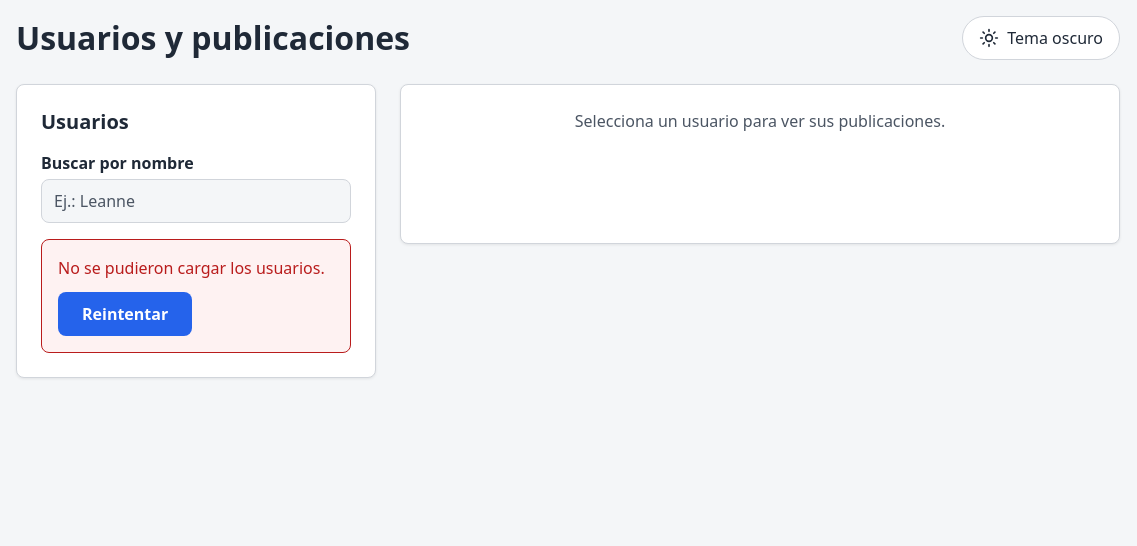
it: Usuarios › muestra un error si falla la carga y permite reintentar
The image size is (1137, 546).
Expected: the message shows "No se pudieron cargar los usuarios.", [58,257,325,279]
Click the button "Reintentar" at coordinates (125, 314), box [58,292,192,336]
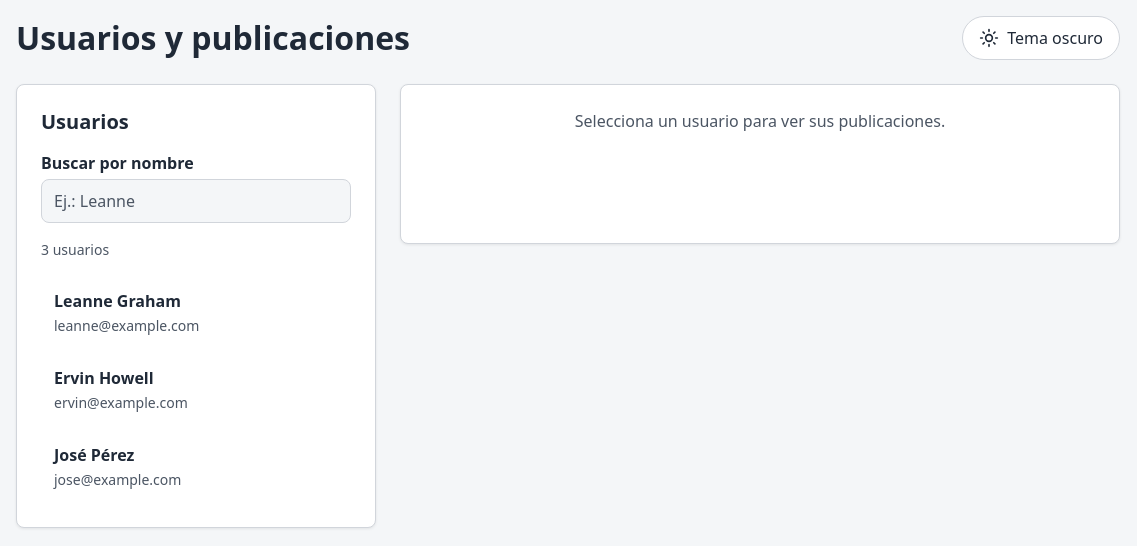
Now the button "Leanne Graham leanne@example.com" is shown, box [41,276,351,349]
